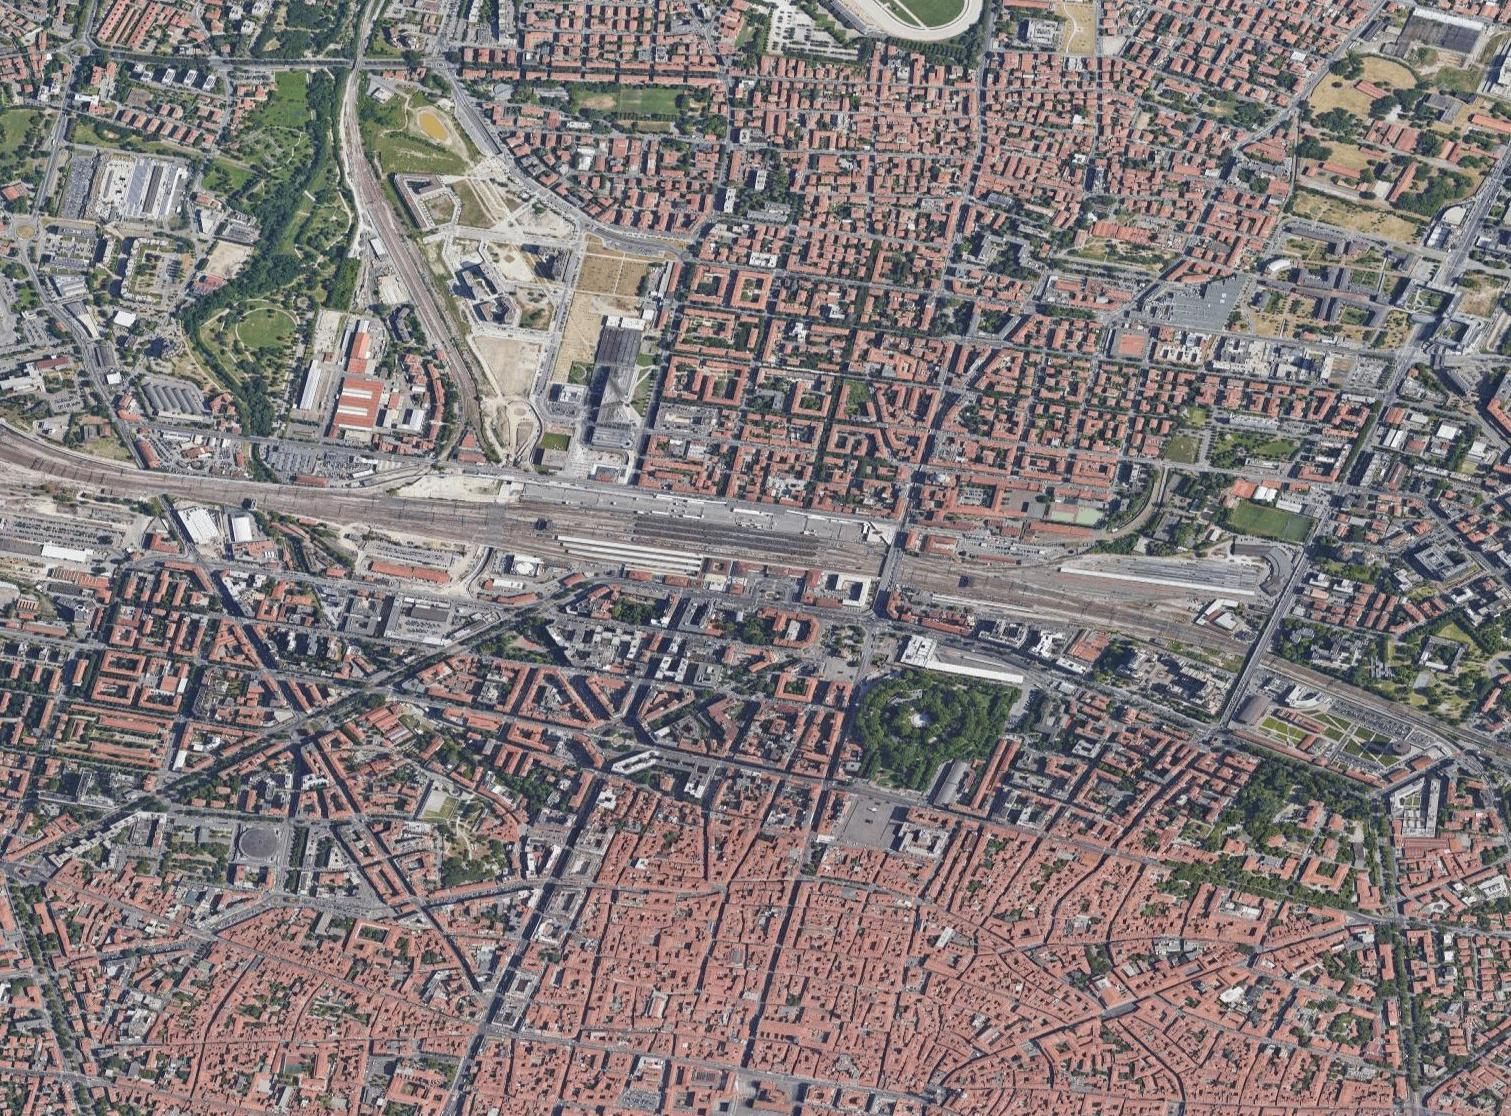bridge: (878, 546, 904, 581), (1244, 638, 1269, 670)
train_station: (554, 489, 854, 617)
